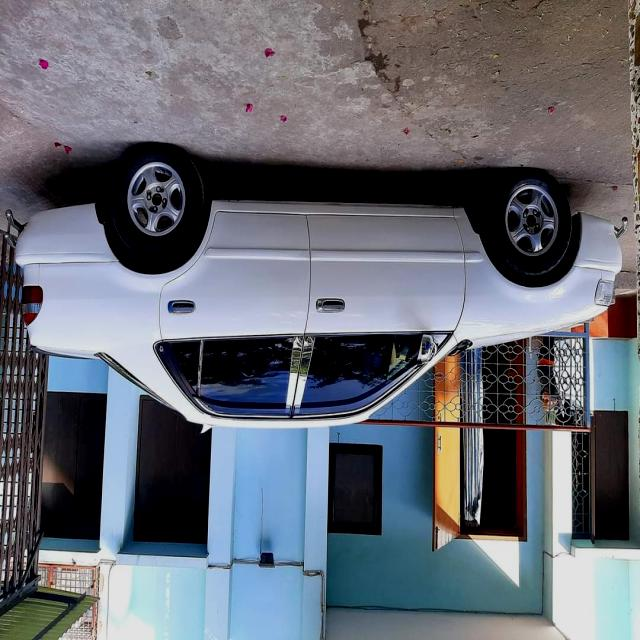white: (9, 196, 640, 424)
